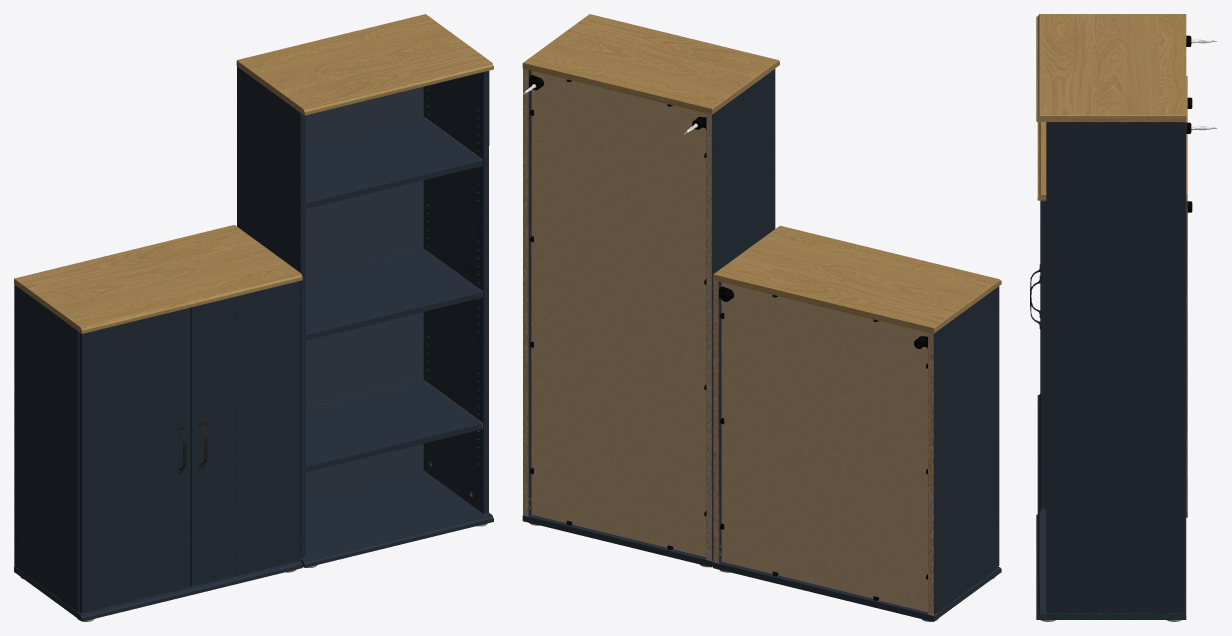
File: SKRUVBY_49494646.glb
3 renders of one model, left to right at view 1: azimuth 30°, elevation 25°; view 2: azimuth 150°, elevation 25°; view 3: azimuth 270°, elevation 25°, orthographic. The views are drawn at different scales.
Parts seen in each view (by area): view 1: 866529815d4240aa9e1dcc4e59c73788; view 2: 866529815d4240aa9e1dcc4e59c73788; view 3: 866529815d4240aa9e1dcc4e59c73788.
Boxes of the visible parts, bbox=[...] form: 866529815d4240aa9e1dcc4e59c73788: bbox=[14, 14, 493, 621]; 866529815d4240aa9e1dcc4e59c73788: bbox=[522, 14, 1001, 621]; 866529815d4240aa9e1dcc4e59c73788: bbox=[1030, 14, 1217, 621].
Size of the model in its own units: 1.31 by 1.4 by 0.47.
Materials: 3 (3 with a texture image).
